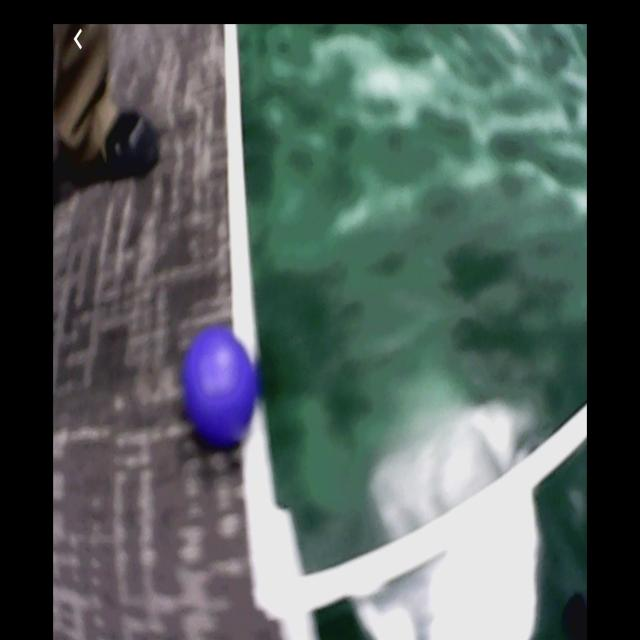ball: (186, 331, 257, 444)
